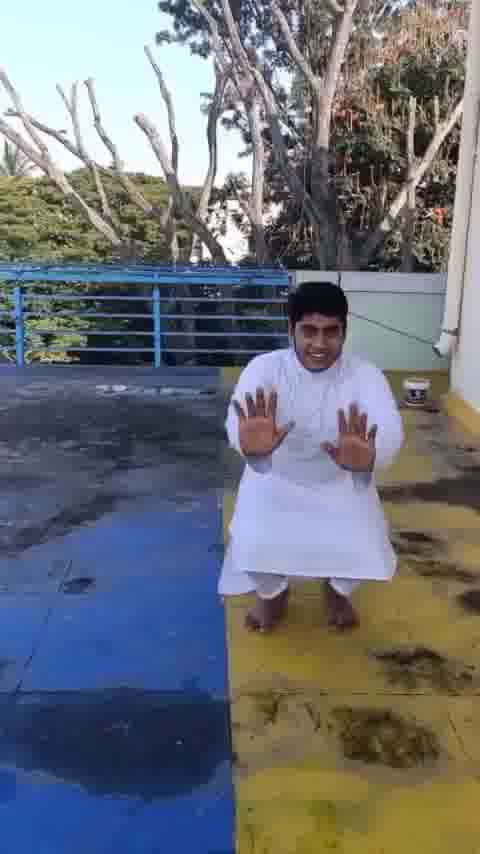duck: (210, 274, 410, 652)
